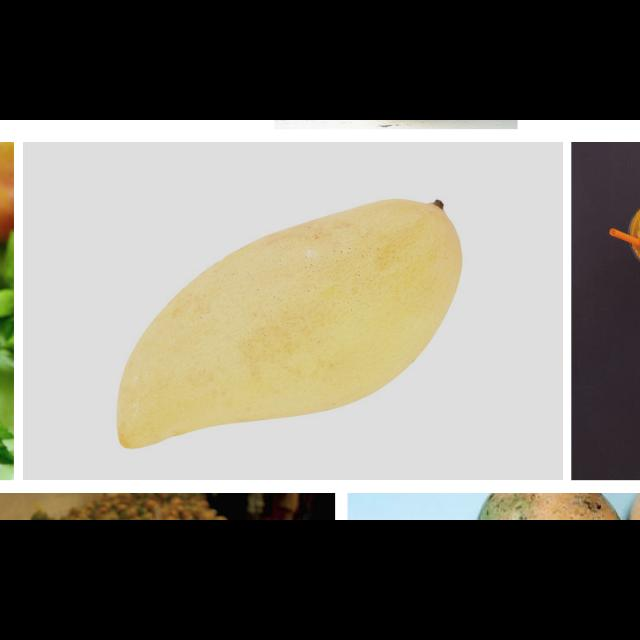mango: (117, 199, 465, 447)
